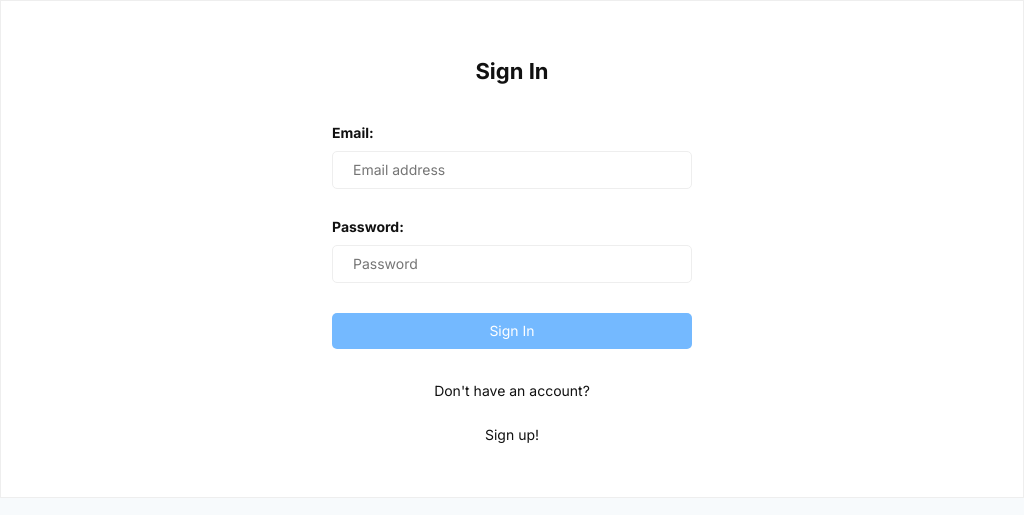
Test case: AuthForm - Login variant › Shows both error warnings if submitted in invalid state
Click the button "Sign In". click: coordinates (512, 331)
box: [332, 313, 692, 349]
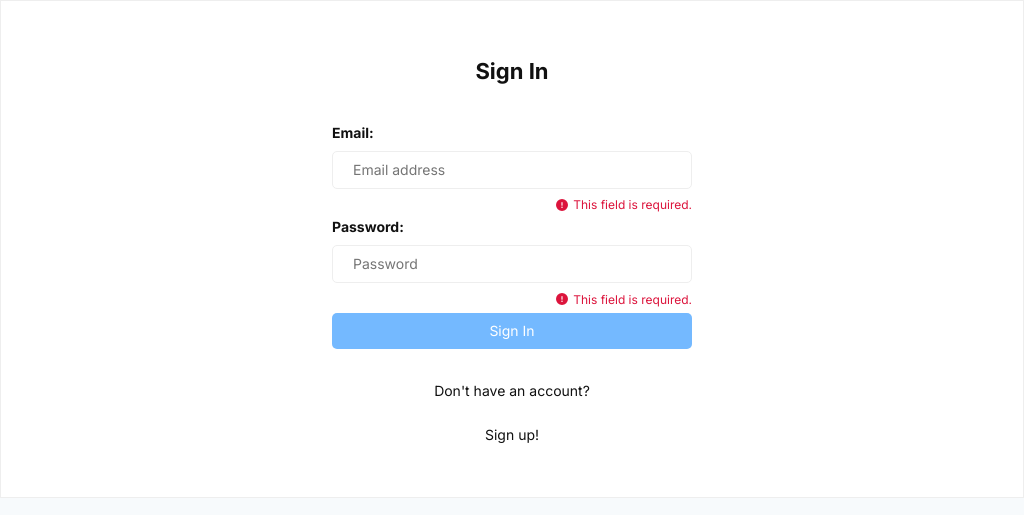
Expected: the text "This field is required." is shown 2 times, [556, 198, 692, 212]; [556, 292, 692, 306]
